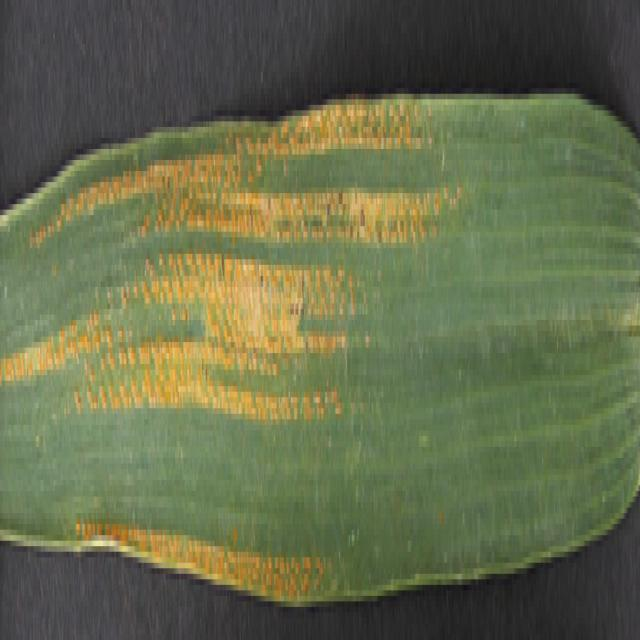leaf rust: (1, 105, 464, 629)
